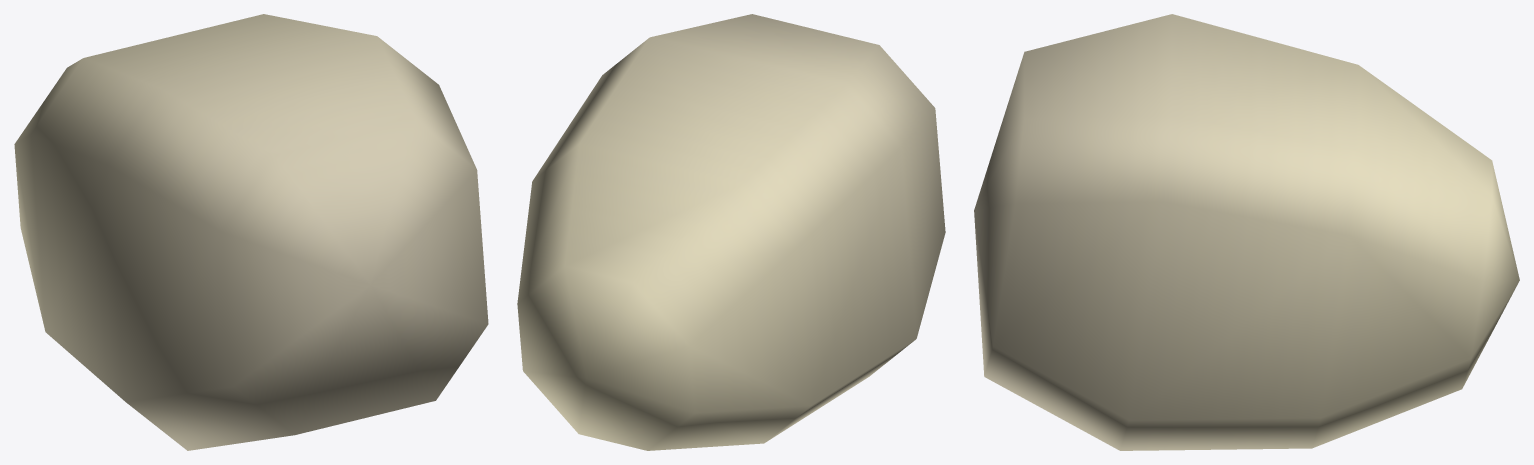
Rendered from egg_white.fbx.
3 renders of one model, left to right at view 1: azimuth 30°, elevation 25°; view 2: azimuth 150°, elevation 25°; view 3: azimuth 270°, elevation 25°, orthographic. The views are drawn at different scales.
Parts seen in each view (by area): view 1: egg_white; view 2: egg_white; view 3: egg_white.
Boxes of the visible parts, bbox=[...] form: egg_white: bbox=[14, 14, 488, 450]; egg_white: bbox=[517, 14, 945, 450]; egg_white: bbox=[974, 14, 1519, 450].
Bounding box in the file's own units: 15 × 15.12 × 22.
